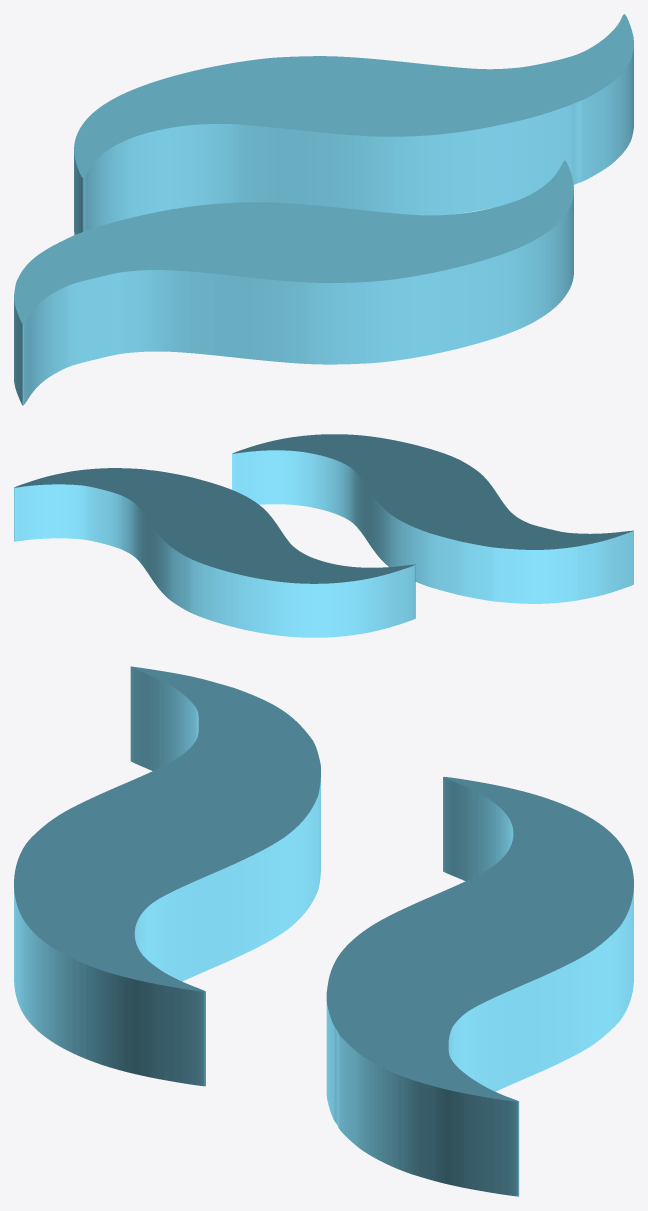
Rendered from tailwind.glb.
3 renders of one model, top to bottom at view 1: azimuth 30°, elevation 25°; view 2: azimuth 150°, elevation 25°; view 3: azimuth 270°, elevation 25°, orthographic. The views are drawn at different scales.
Visible parts, largest first — view 1: Node1; view 2: Node1; view 3: Node1.
Part boxes in pixels (x1,y1,x2,y2): Node1: [14, 14, 633, 405]; Node1: [14, 434, 633, 637]; Node1: [14, 666, 633, 1196].
Size of what is drawn, in the model's own units: 3.89 by 0.3937 by 2.34.
